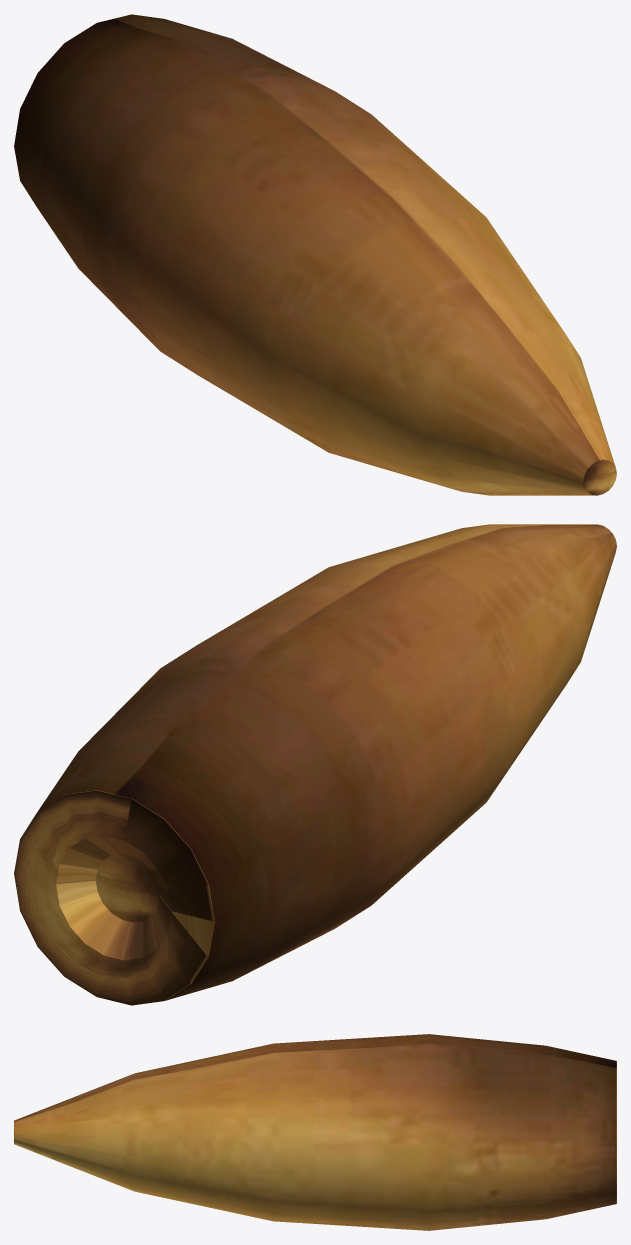
File: Bullet01.fbx
3 renders of one model, top to bottom at view 1: azimuth 30°, elevation 25°; view 2: azimuth 150°, elevation 25°; view 3: azimuth 270°, elevation 25°, orthographic. The views are drawn at different scales.
Parts seen in each view (by area): view 1: Bullet01; view 2: Bullet01; view 3: Bullet01.
Part boxes in pixels (bbox=[...]): Bullet01: bbox=[14, 14, 616, 495]; Bullet01: bbox=[14, 524, 616, 1005]; Bullet01: bbox=[14, 1034, 616, 1230].
Bounding box in the file's own units: 11.28 × 11.11 × 34.43.
